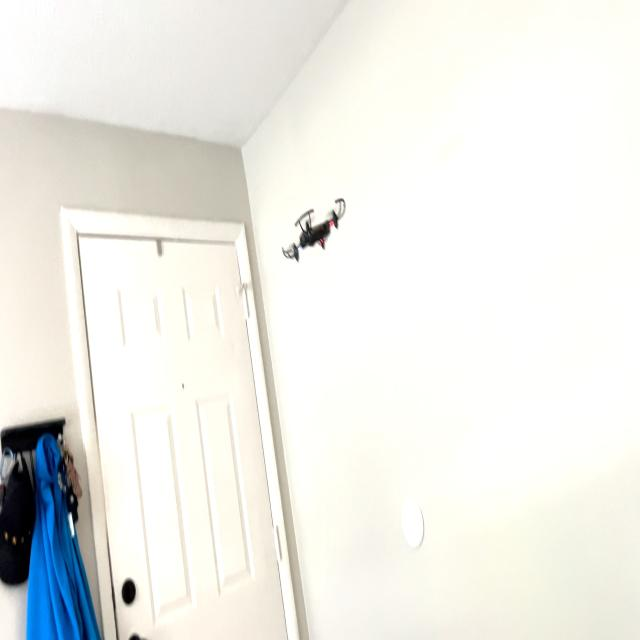drone: (279, 181, 350, 279)
